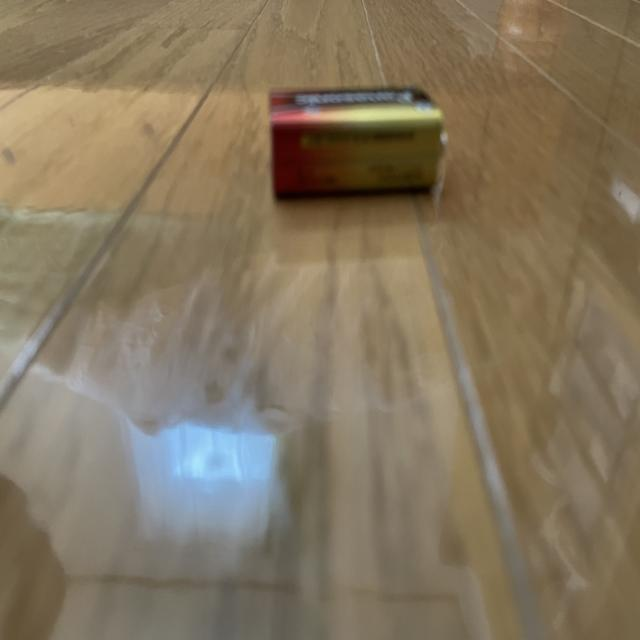9V: (266, 87, 451, 192)
